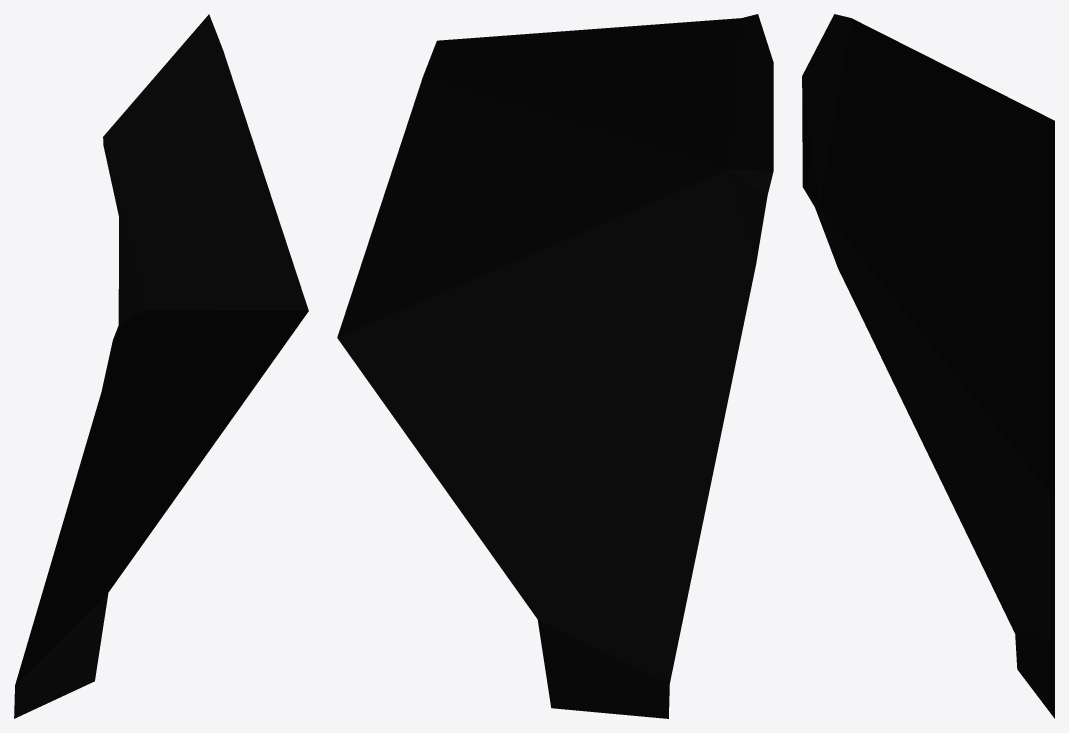
3 views of the same model, side by side, from view 1: azimuth 30°, elevation 25°; view 2: azimuth 150°, elevation 25°; view 3: azimuth 270°, elevation 25° (orthographic). The views are drawn at different scales.
Bounding box in the file's own units: 1.51 × 2.95 × 1.03.
Materials: 2 (2 with a texture image).
